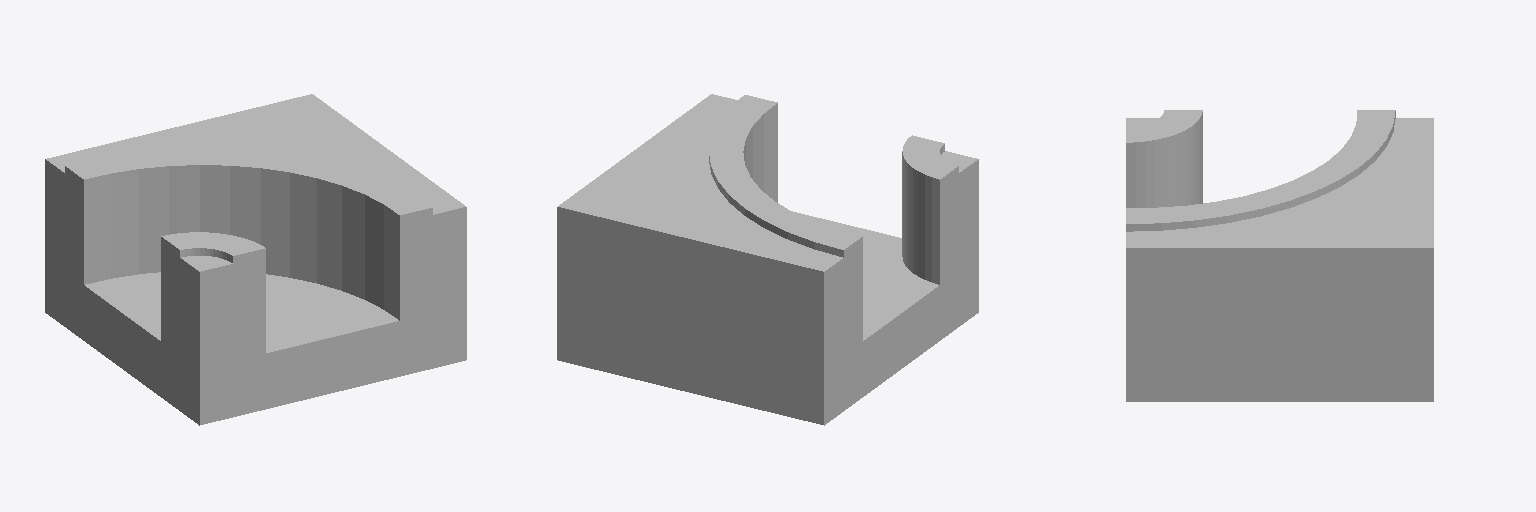
Rendered from tile045.obj.
The picture shows the model from 3 angles: view 1: azimuth 30°, elevation 25°; view 2: azimuth 150°, elevation 25°; view 3: azimuth 270°, elevation 25°; orthographic projection.
Parts seen in each view (by area): view 1: tile045; view 2: tile045; view 3: tile045.
Part boxes in pixels (bbox=[...]): tile045: bbox=[45, 94, 466, 425]; tile045: bbox=[557, 94, 978, 425]; tile045: bbox=[1126, 110, 1433, 401].
Size of the model in its own units: 1 by 0.5767 by 1.